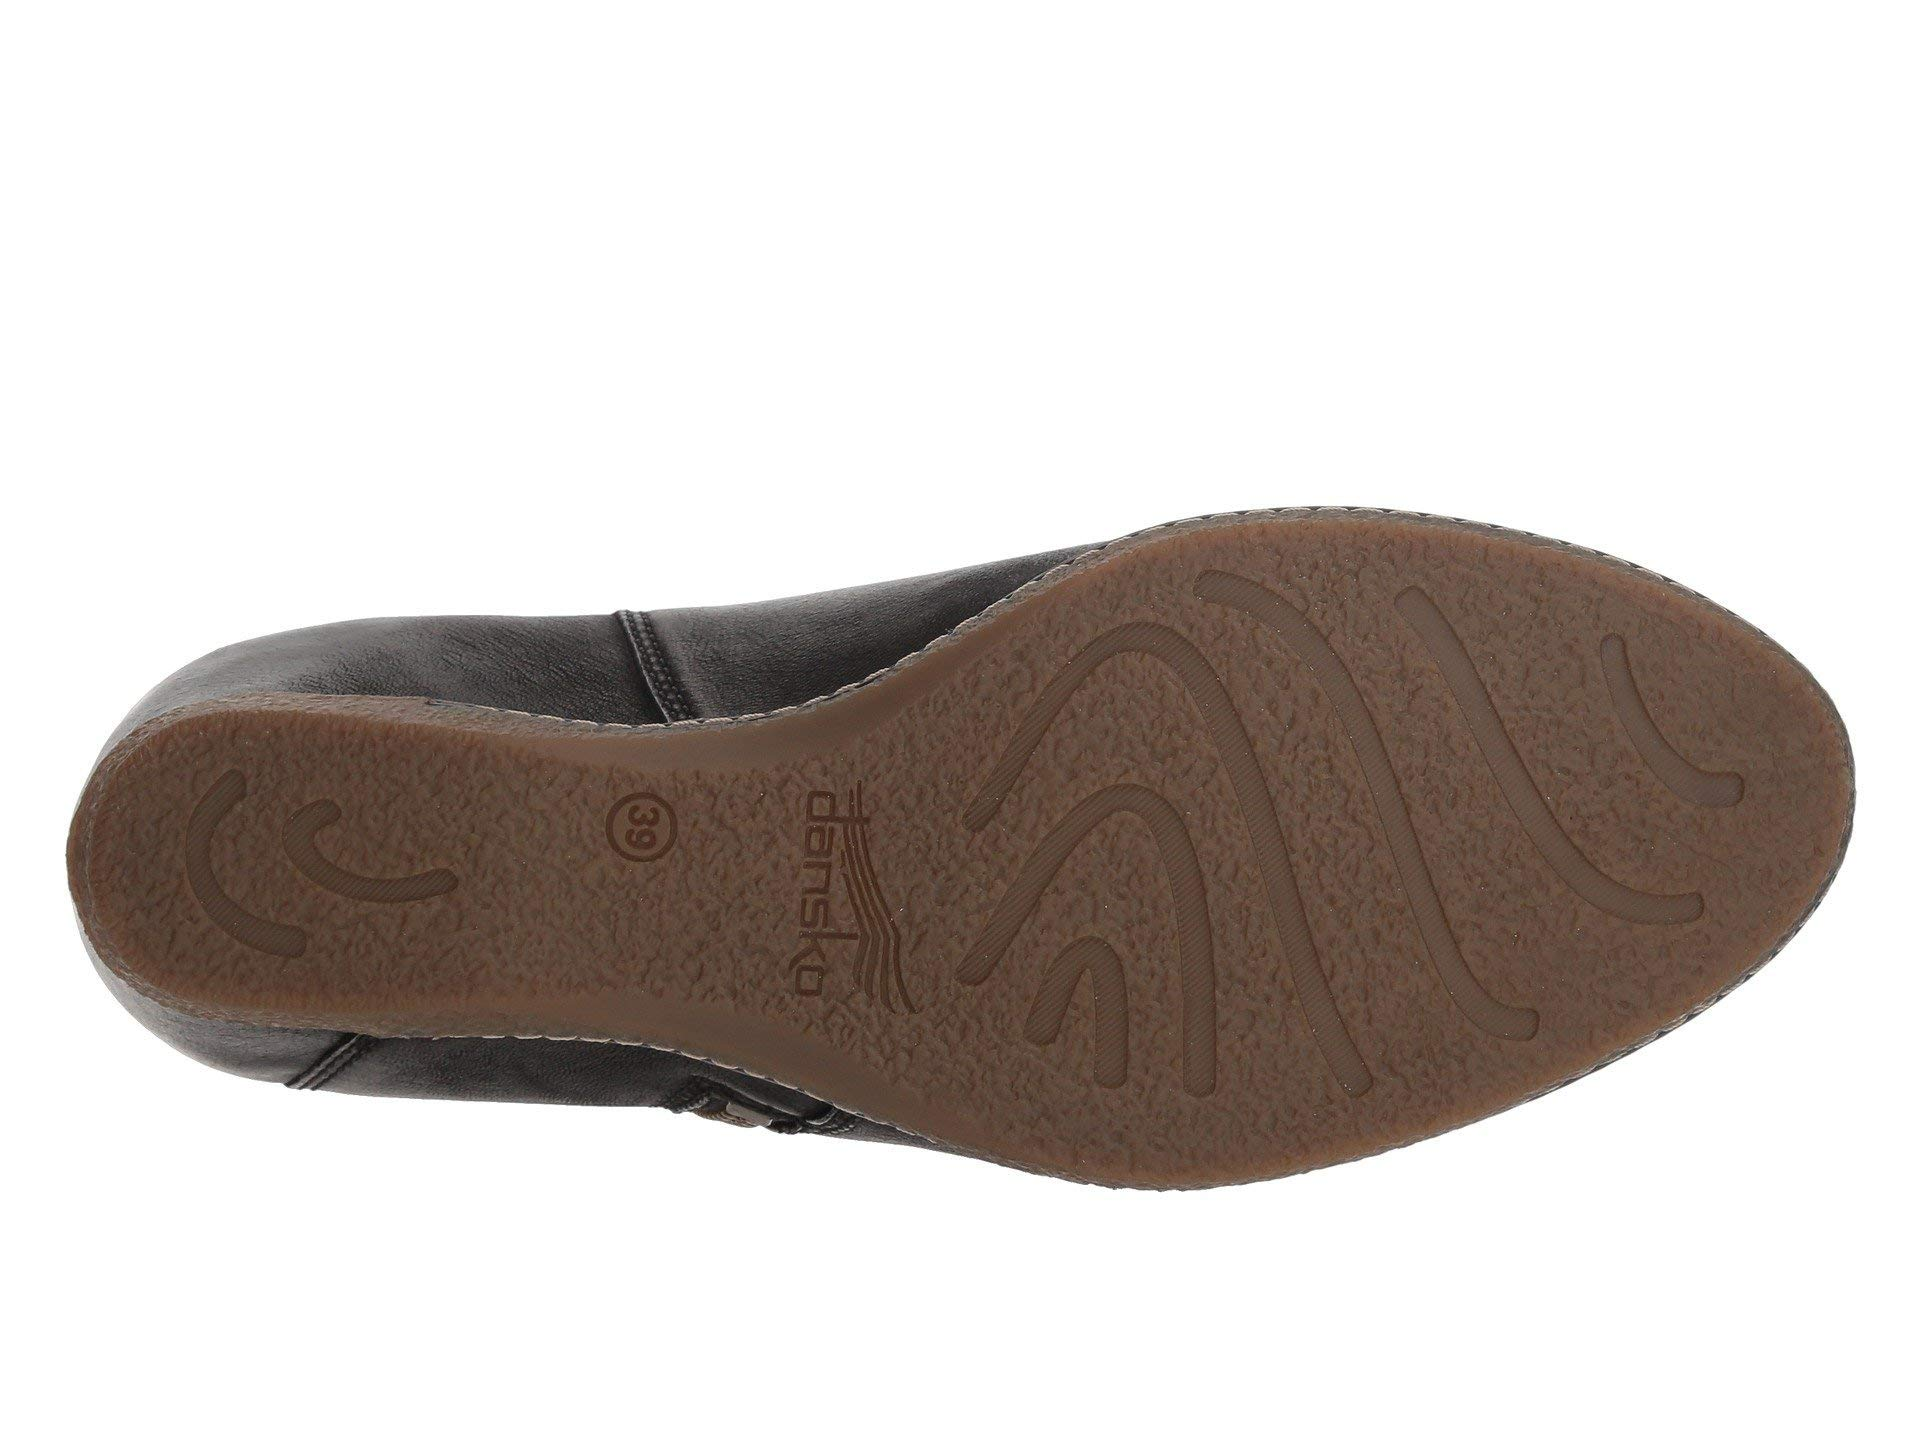chevron: (943, 588, 1403, 1121)
circle: (596, 771, 683, 876)
line: (763, 740, 918, 1032)
quad: (763, 740, 918, 1032)
text: (763, 740, 918, 1032), (596, 771, 683, 876)
